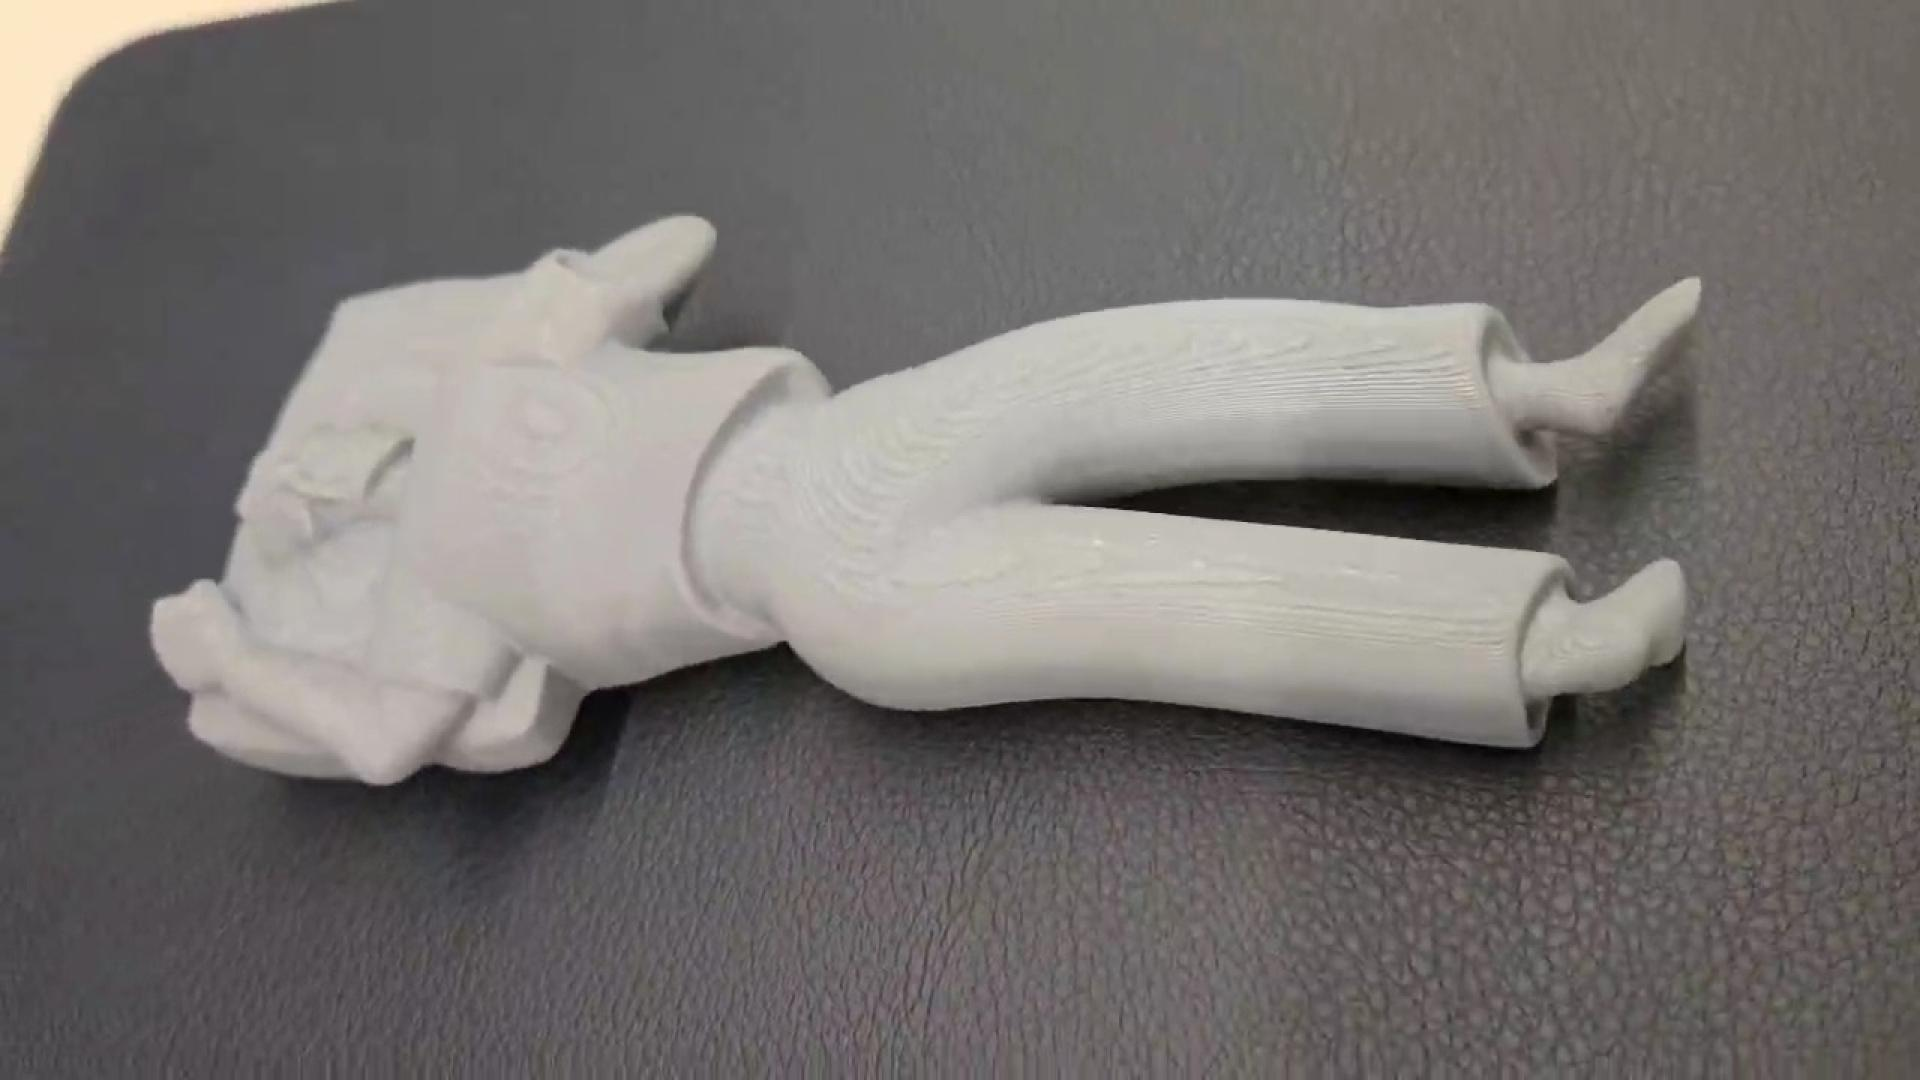Bad-style: (150, 207, 1705, 806)
